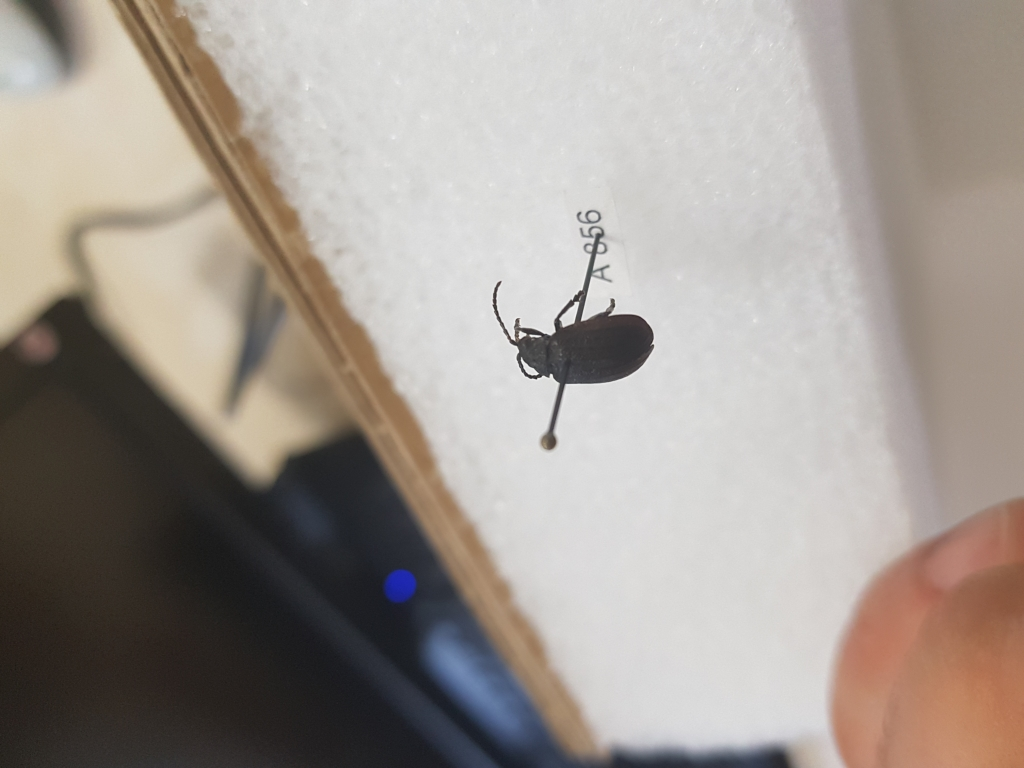Galeruca_tanaceti: (492, 278, 656, 387)
